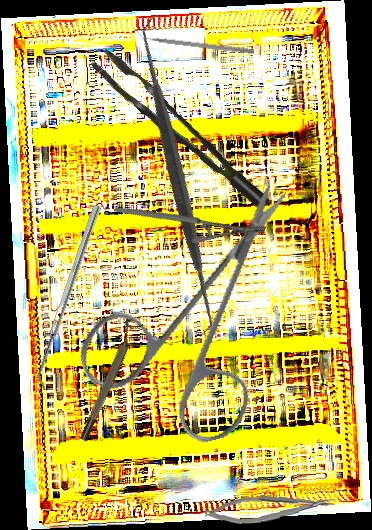Chopper: (135, 28, 256, 55)
Fixation Ring: (72, 317, 144, 443)
Iris Scissors: (51, 182, 340, 467)
Needle Holder: (112, 160, 268, 278), (204, 491, 336, 527)
Spatula Surgical: (14, 13, 341, 339), (31, 204, 108, 391)
Tissue Forceps: (89, 33, 271, 231)
